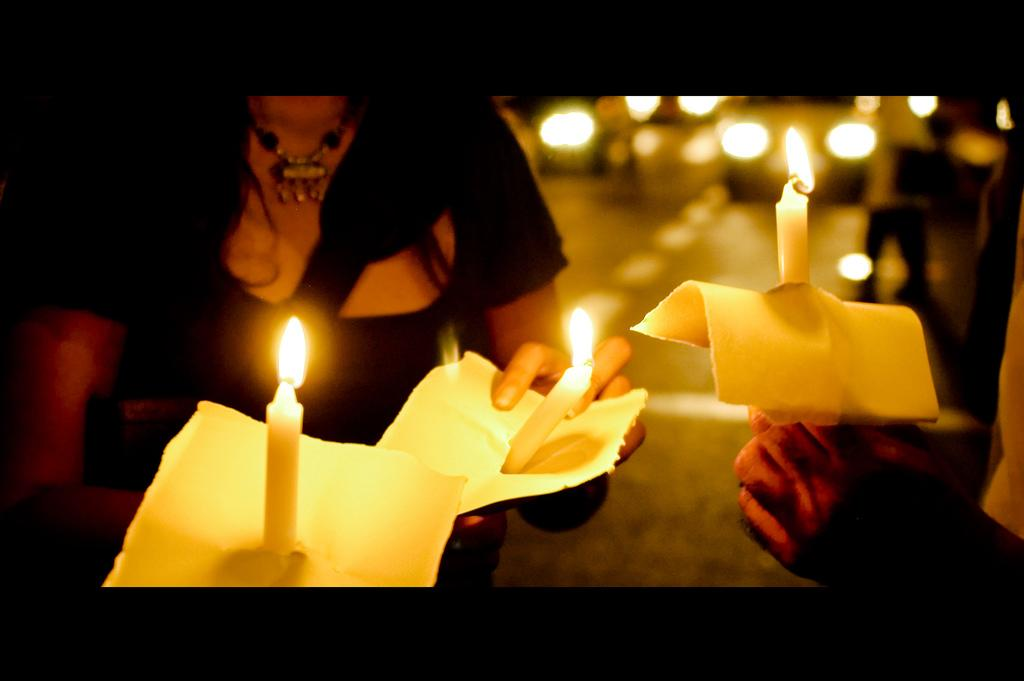fire: (572, 315, 600, 362), (282, 327, 308, 375), (787, 133, 807, 183)
